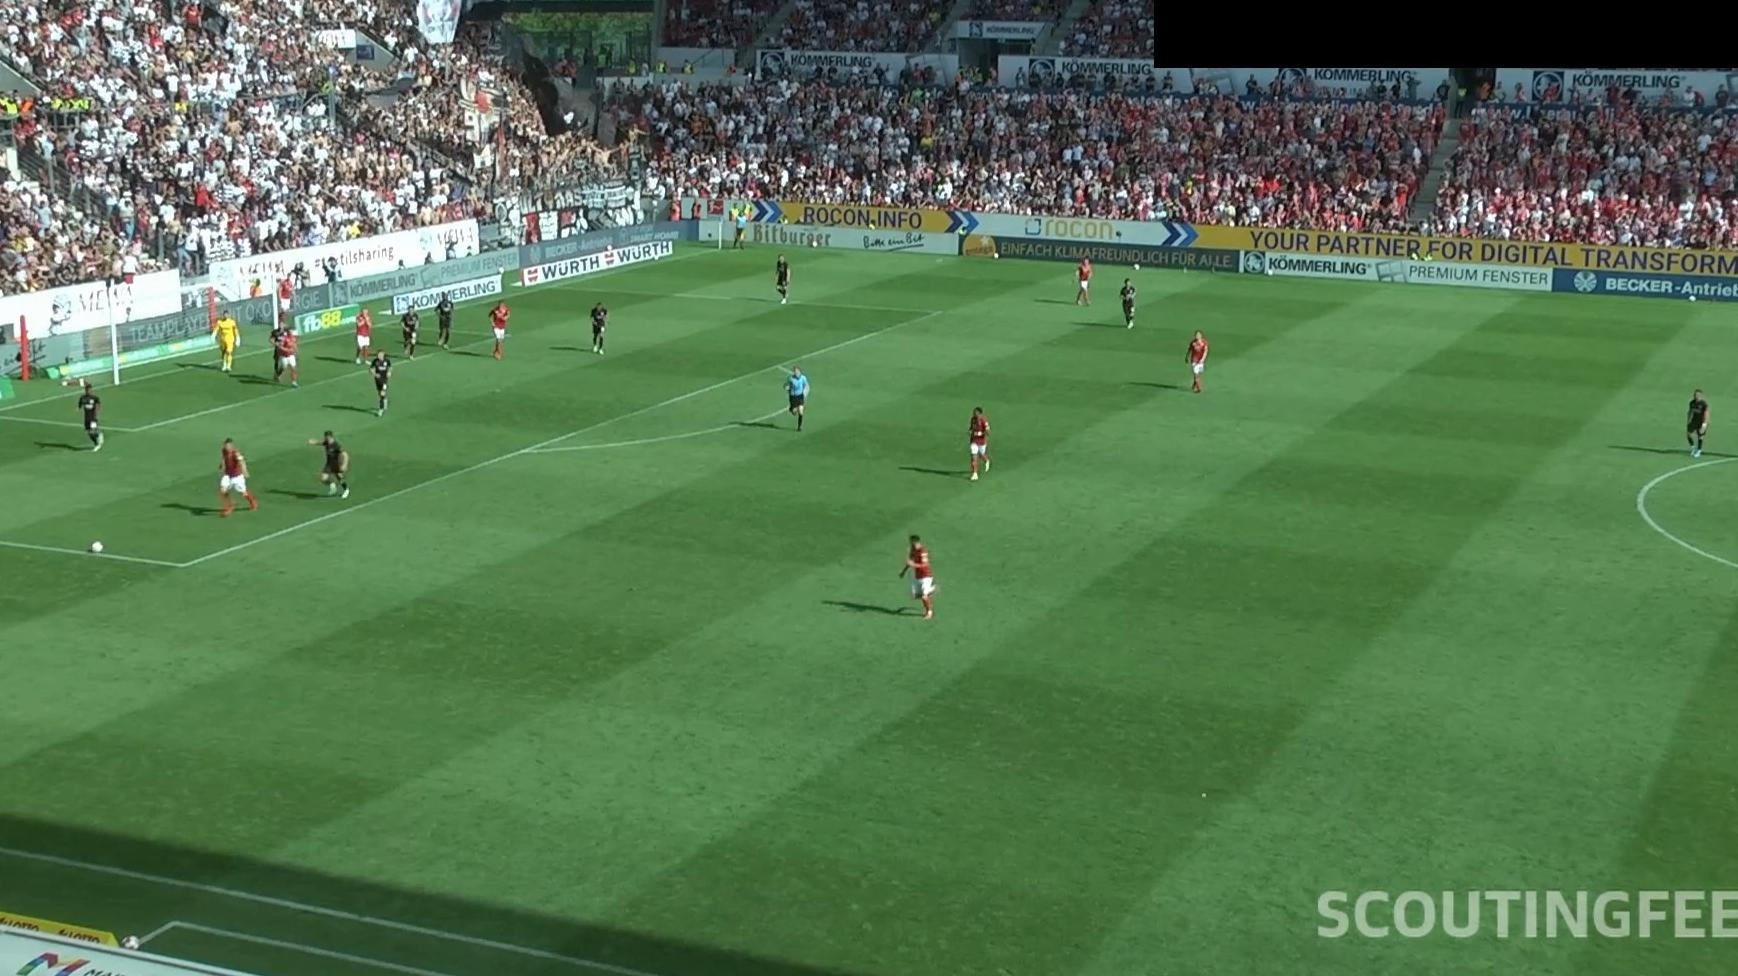ball: (90, 540, 104, 554)
